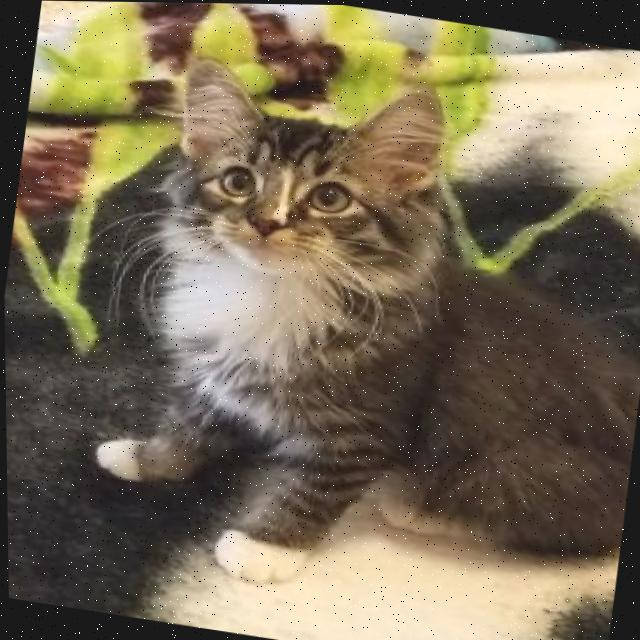Maine Coon: (70, 36, 640, 640)
